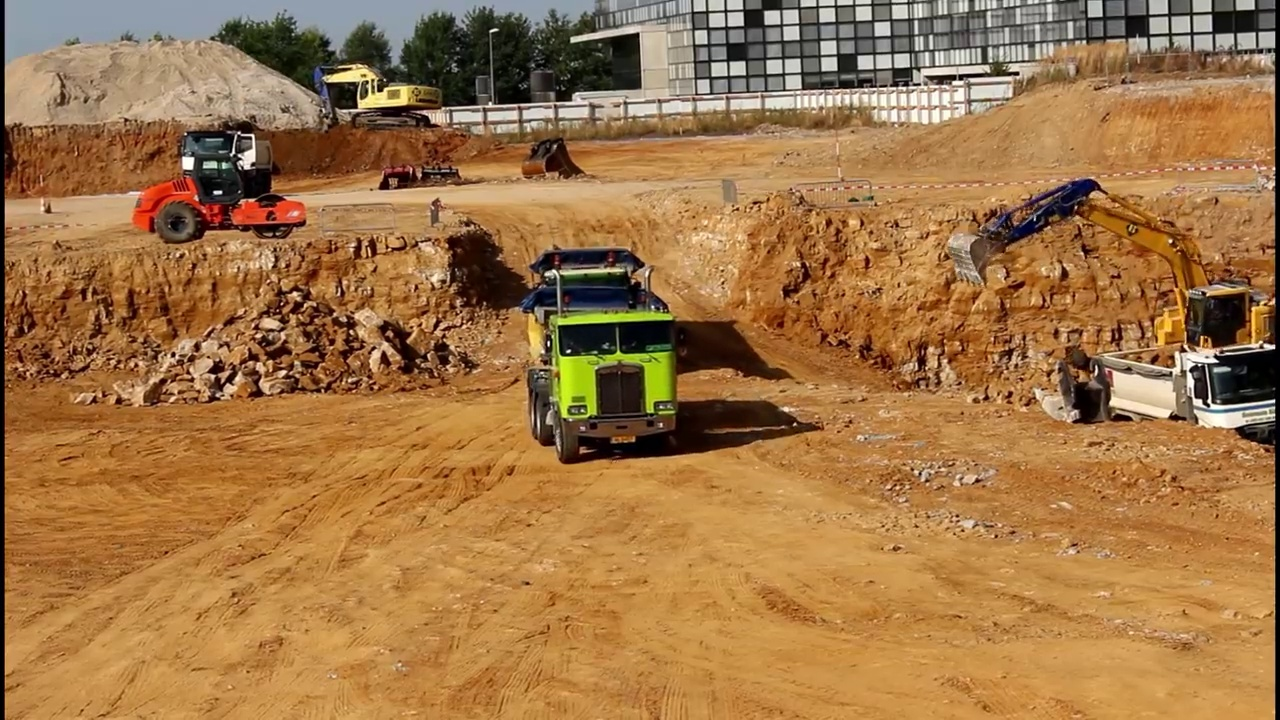compactor: (130, 151, 311, 245)
excavator: (945, 175, 1280, 396), (308, 57, 449, 141)
truck: (1073, 340, 1280, 472), (519, 305, 688, 464), (521, 240, 653, 361), (176, 121, 283, 203)
